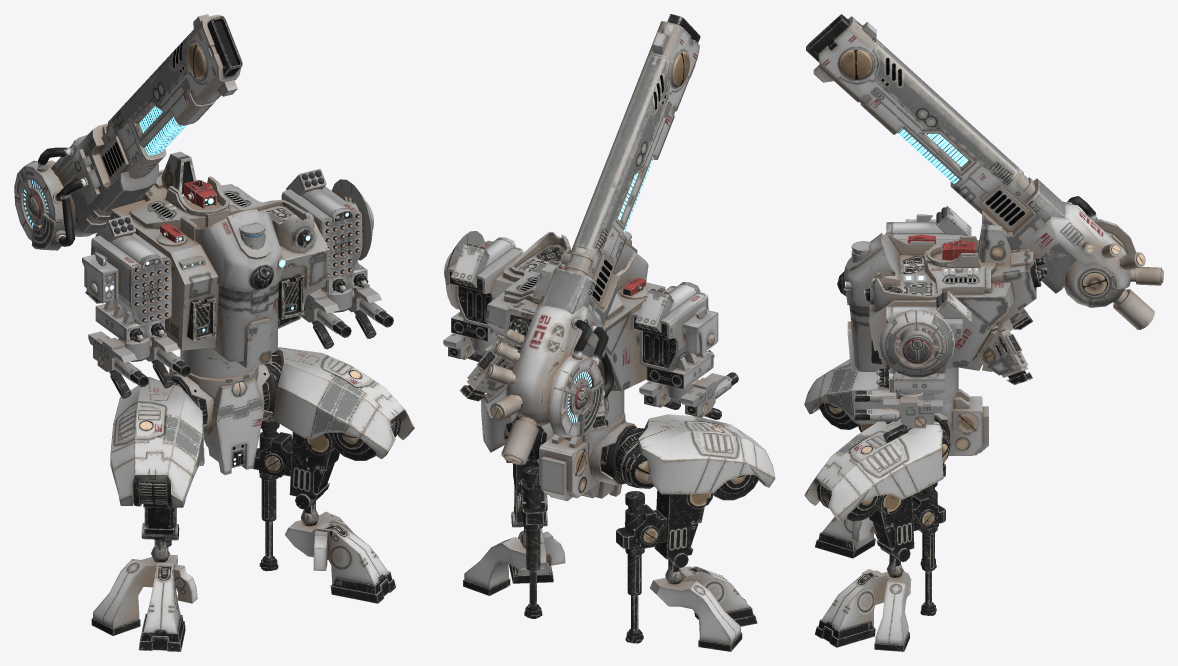
File: stormsurge-transformed.glb
3 renders of one model, left to right at view 1: azimuth 30°, elevation 25°; view 2: azimuth 150°, elevation 25°; view 3: azimuth 270°, elevation 25°, orthographic. The views are drawn at different scales.
Parts seen in each view (by area): view 1: torso004, railgun_new, Line005, Line012, hip, Box002, right_rocket_battery, left_rocket_battery001, Box001, Line004, nade_launcher_right_02, Line010 (+9 smaller); view 2: railgun_new, torso004, Line012, right_rocket_battery, hip, left_rocket_battery001, Box002, Box001, Line011, Line013, nade_launcher_right_02, Line010 (+8 smaller); view 3: railgun_new, torso004, Line005, left_rocket_battery001, Box001, Line012, hip, Line004, nade_launcher_left_02, Box002, right_rocket_battery, Line010 (+2 smaller).
Part boxes in pixels (left/top/right/bottom): torso004: left=85, top=151, right=328, bottom=378; railgun_new: left=14, top=14, right=242, bottom=250; Line005: left=266, top=347, right=414, bottom=460; Line012: left=110, top=376, right=204, bottom=507; hip: left=169, top=356, right=276, bottom=475; Box002: left=91, top=554, right=197, bottom=651; right_rocket_battery: left=91, top=215, right=171, bottom=343; left_rocket_battery001: left=281, top=169, right=373, bottom=293; Box001: left=285, top=511, right=395, bottom=603; Line004: left=289, top=432, right=339, bottom=526; nade_launcher_right_02: left=88, top=331, right=148, bottom=398; Line010: left=252, top=415, right=292, bottom=480; railgun_new: left=485, top=14, right=700, bottom=464; torso004: left=459, top=231, right=665, bottom=429; Line012: left=615, top=414, right=775, bottom=500; right_rocket_battery: left=630, top=282, right=713, bottom=389; hip: left=533, top=413, right=636, bottom=501; left_rocket_battery001: left=444, top=231, right=523, bottom=341; Box002: left=650, top=566, right=757, bottom=651; Box001: left=463, top=528, right=565, bottom=595; Line011: left=654, top=490, right=713, bottom=584; Line013: left=616, top=491, right=666, bottom=555; nade_launcher_right_02: left=680, top=372, right=738, bottom=419; Line010: left=517, top=466, right=547, bottom=530; railgun_new: left=806, top=14, right=1163, bottom=329; torso004: left=837, top=224, right=1048, bottom=402; Line005: left=804, top=418, right=950, bottom=521; left_rocket_battery001: left=879, top=290, right=971, bottom=394; Box001: left=814, top=569, right=911, bottom=651; Line012: left=804, top=359, right=886, bottom=429; hip: left=885, top=389, right=988, bottom=455; Line004: left=869, top=494, right=914, bottom=577; nade_launcher_left_02: left=854, top=397, right=942, bottom=442; Box002: left=815, top=517, right=878, bottom=558; right_rocket_battery: left=886, top=206, right=971, bottom=239; Line010: left=912, top=482, right=945, bottom=533.
Size of the model in its own units: 20.09 by 39.76 by 23.39.
5 materials, 5 textured.
